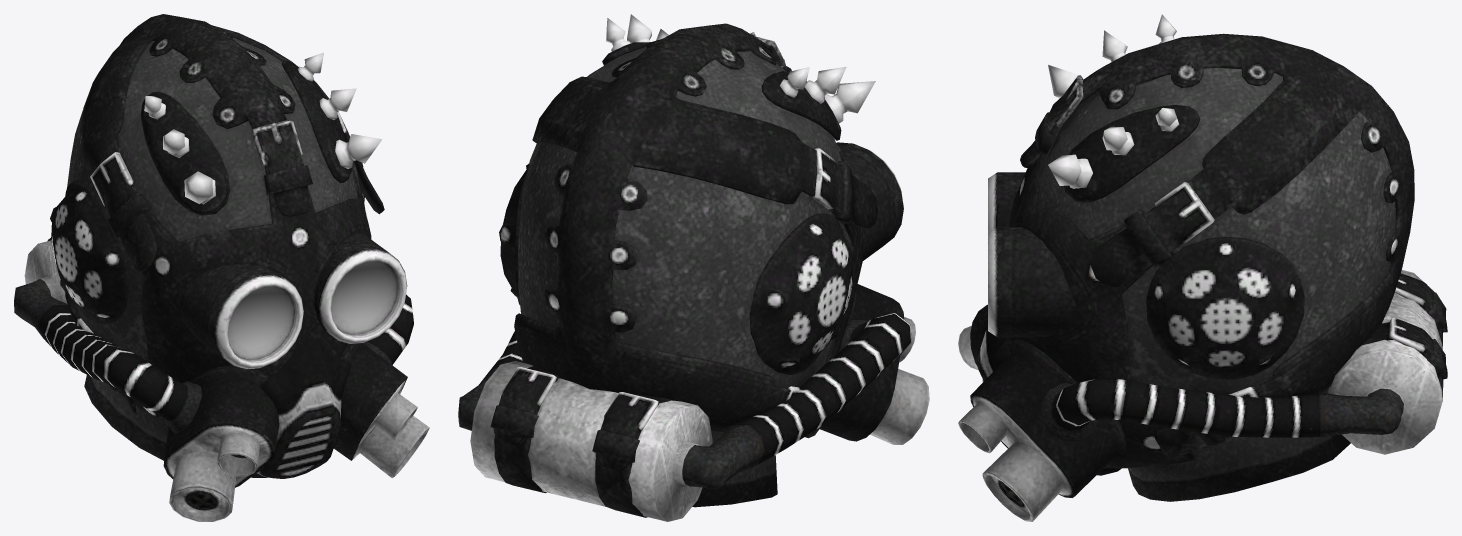
Rendered from SurvivorMale_Head_Helmet_Wrestling_LOD0.glb.
3 renders of one model, left to right at view 1: azimuth 30°, elevation 25°; view 2: azimuth 150°, elevation 25°; view 3: azimuth 270°, elevation 25°, orthographic. The views are drawn at different scales.
Visible parts, largest first — view 1: Hoodie; view 2: Hoodie; view 3: Hoodie.
Part boxes in pixels (x1=…): Hoodie: x1=14, y1=14, x2=429, y2=521; Hoodie: x1=458, y1=14, x2=929, y2=521; Hoodie: x1=958, y1=14, x2=1447, y2=521.
Size of the model in its own units: 0.2336 by 0.3099 by 0.3059.
Materials: 1 (1 with a texture image).
